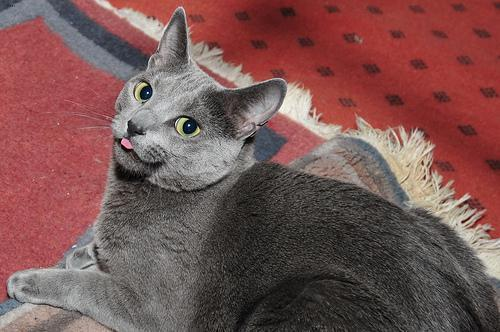cat: (5, 6, 500, 332)
